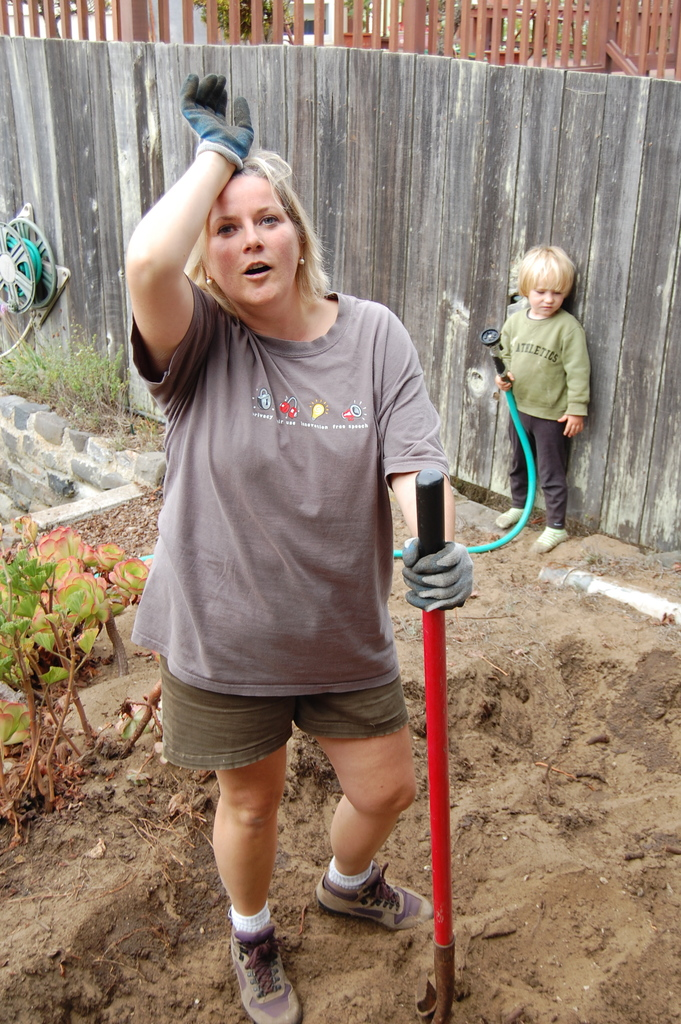Human-face: (206, 170, 300, 301), (526, 265, 564, 316)
